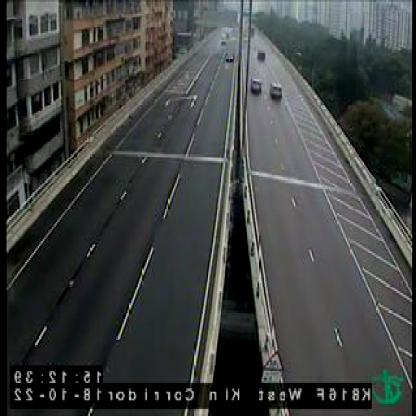Car: (250, 76, 262, 96), (270, 84, 283, 100), (257, 46, 266, 62), (225, 52, 234, 64)
